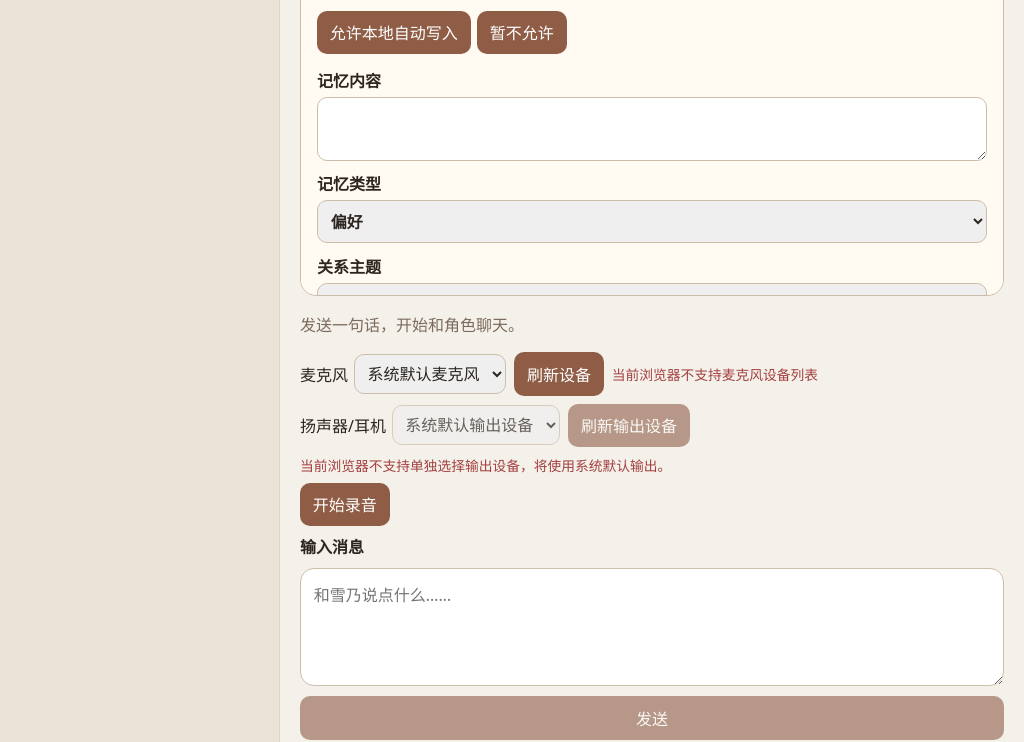
Test: App › manual stop cleans up VAD and prevents duplicate auto-stop
(page scrolled)
Click the button "开始录音": (345, 504) [300,483,390,526]
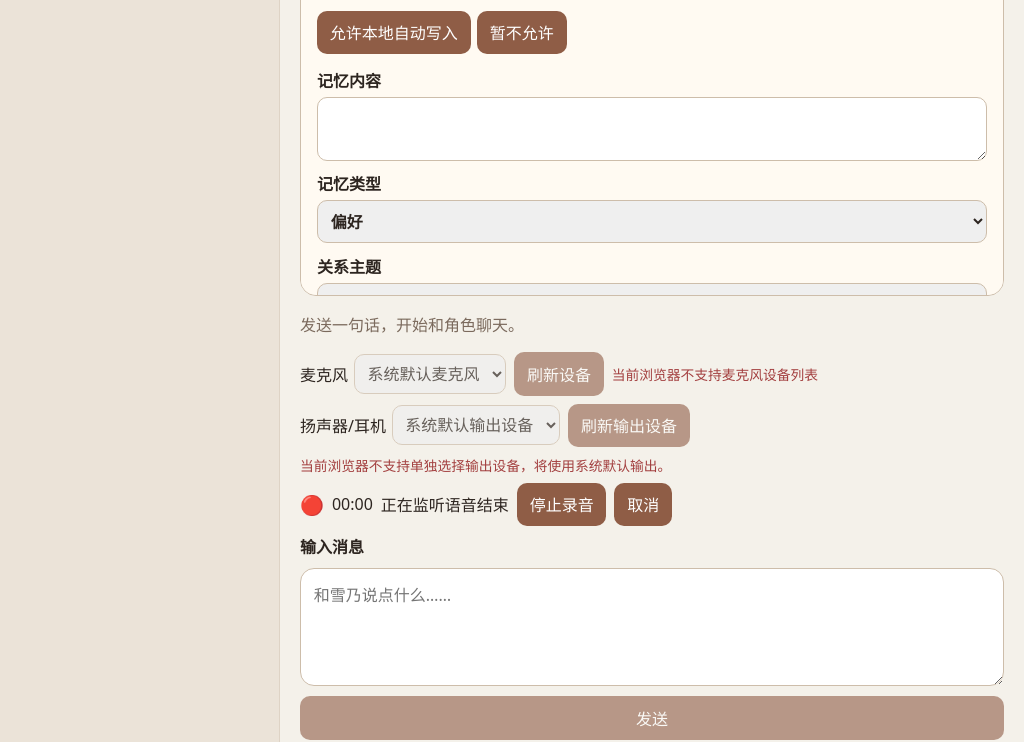
Click the button "停止录音": (562, 504) [517,483,606,526]
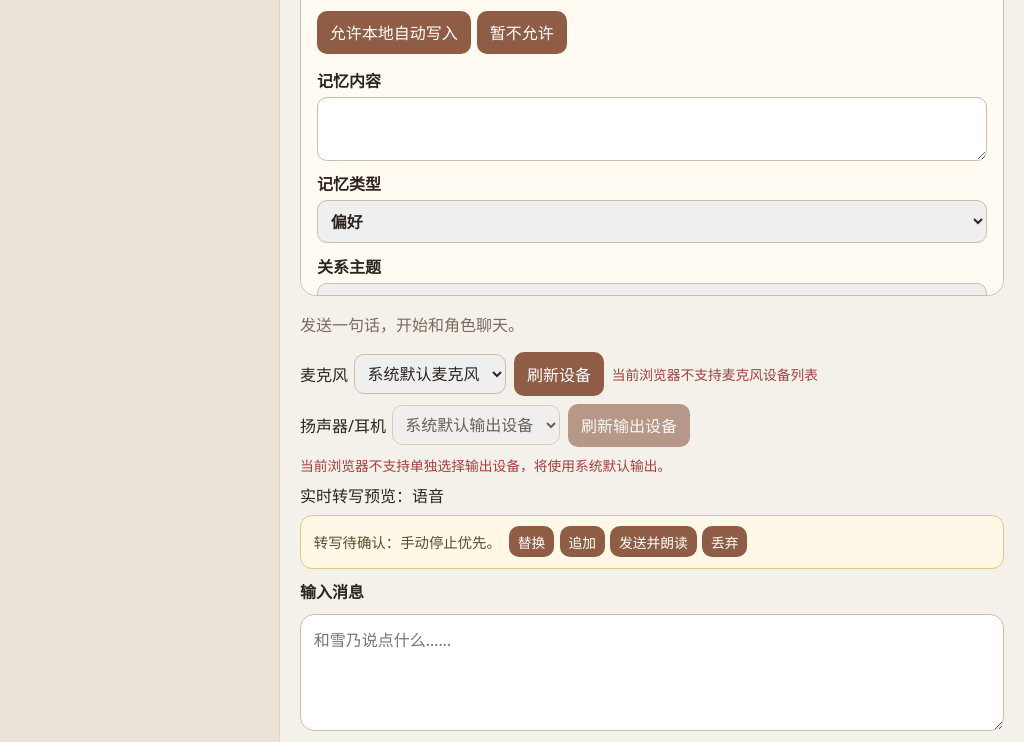
Expected: the text "转写待确认：手动停止优先。" is shown, [314,531,501,552]
